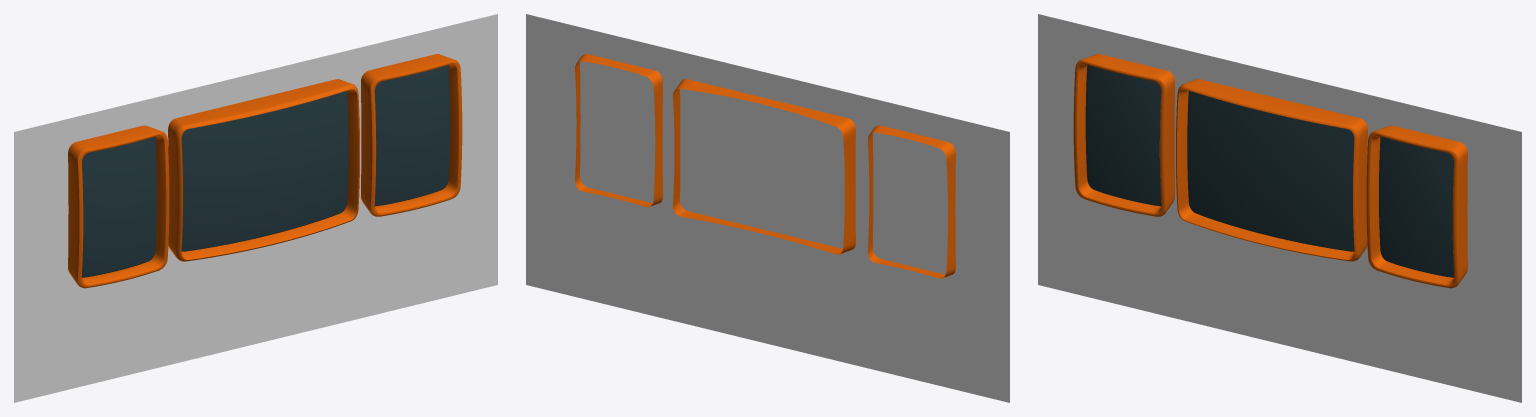
File: SchermiPannelloDiControllo.fbx
3 renders of one model, left to right at view 1: azimuth 30°, elevation 25°; view 2: azimuth 150°, elevation 25°; view 3: azimuth 330°, elevation 25°, orthographic.
Visible parts, largest first — view 1: Base, SchermoGriglia, Cube.007, SchermoMessaggiNemici, SchermoMessaggiAlleati, Cube.001; view 2: Base, Cube.007, Cube.001; view 3: Base, SchermoGriglia, Cube.007, SchermoMessaggiAlleati, SchermoMessaggiNemici, Cube.001.
Boxes of the visible parts, x1,y1,x2,y2 form: Base: (14,14,497,402); SchermoGriglia: (181,90,348,251); Cube.007: (68,54,462,288); SchermoMessaggiNemici: (374,65,450,206); SchermoMessaggiAlleati: (81,136,156,277); Cube.001: (168,79,359,261); Base: (526,14,1009,402); Cube.007: (575,54,955,278); Cube.001: (673,79,855,254); Base: (1038,14,1521,402); SchermoGriglia: (1187,90,1354,251); Cube.007: (1073,54,1467,288); SchermoMessaggiAlleati: (1085,65,1161,206); SchermoMessaggiNemici: (1379,136,1454,277); Cube.001: (1176,79,1367,261).
Size of the model in its own units: 692 by 371 by 68.39.
